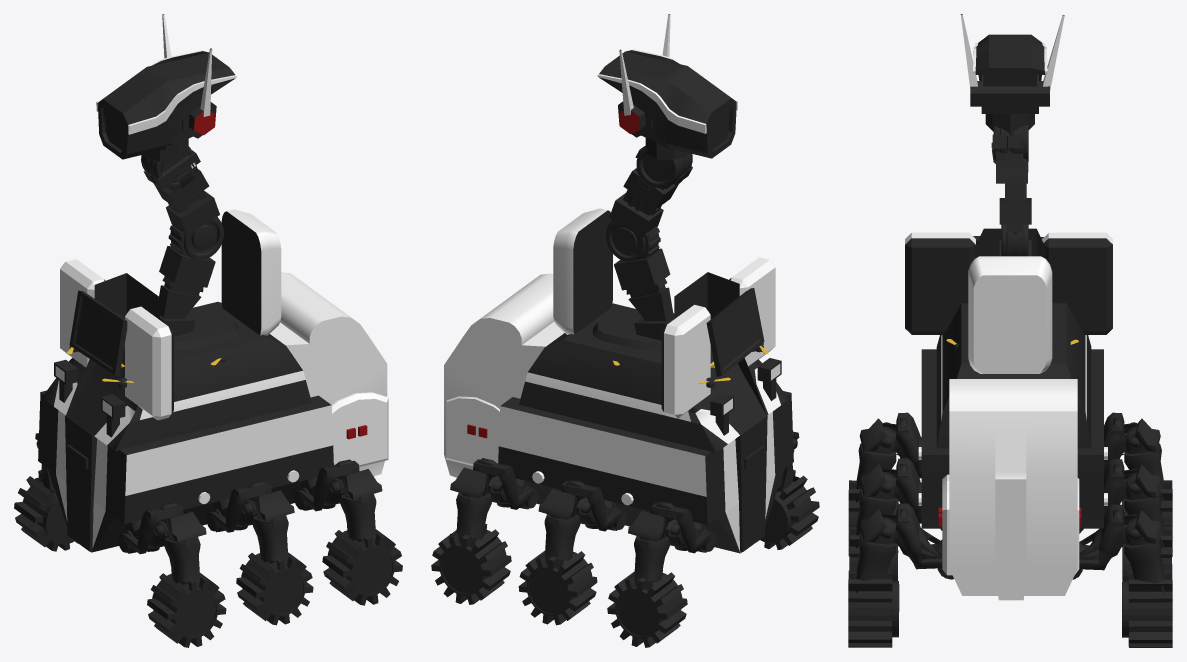
File: robotM.glb
3 views of the same model, side by side, from view 1: azimuth 30°, elevation 25°; view 2: azimuth 150°, elevation 25°; view 3: azimuth 270°, elevation 25° (orthographic). The views are drawn at different scales.
Parts seen in each view (by area): view 1: jiqiren2; view 2: jiqiren2; view 3: jiqiren2.
Boxes of the visible parts, <box> form: jiqiren2: <box>14,14,402,647</box>; jiqiren2: <box>431,14,819,647</box>; jiqiren2: <box>848,14,1172,647</box>.
Bounding box in the file's own units: 2.76 × 4.94 × 2.53.
Materials: 2 (2 with a texture image).
